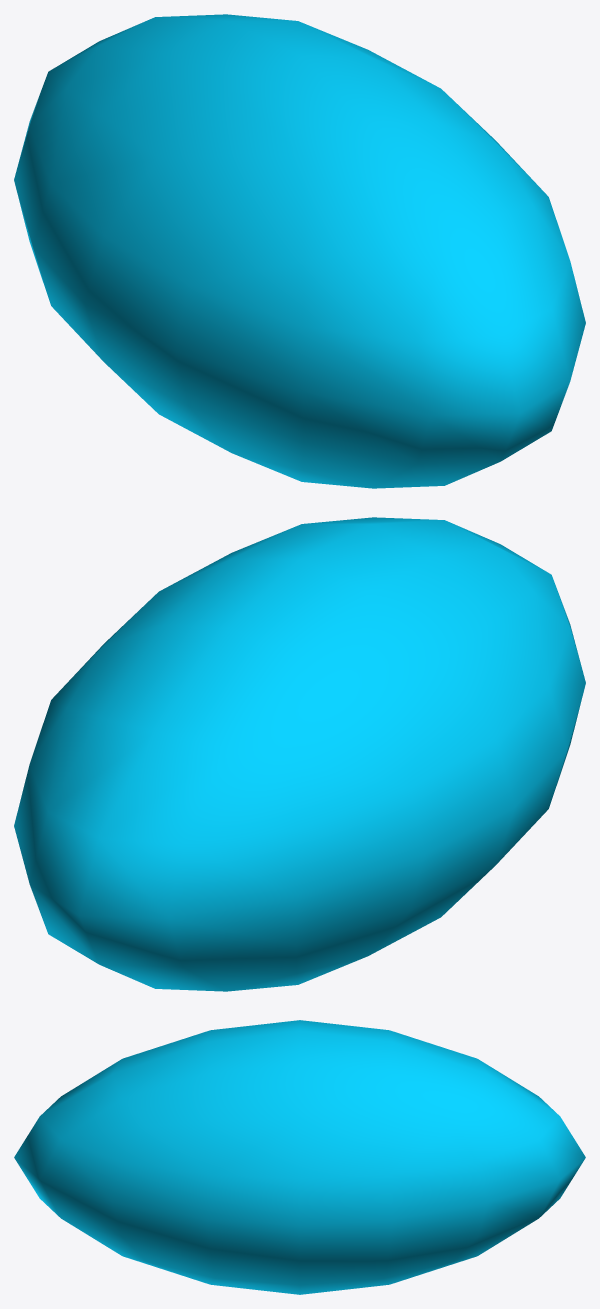
The model's file is bullet.fbx.
The picture shows the model from 3 angles, top to bottom: view 1: azimuth 30°, elevation 25°; view 2: azimuth 150°, elevation 25°; view 3: azimuth 270°, elevation 25°; orthographic projection. The views are drawn at different scales.
Parts seen in each view (by area): view 1: Bullet; view 2: Bullet; view 3: Bullet.
Part boxes in pixels (x1=…): Bullet: x1=14, y1=14, x2=585, y2=488; Bullet: x1=14, y1=517, x2=585, y2=991; Bullet: x1=14, y1=1020, x2=585, y2=1294.
Bounding box in the file's own units: 31.7 × 27.55 × 56.32.
